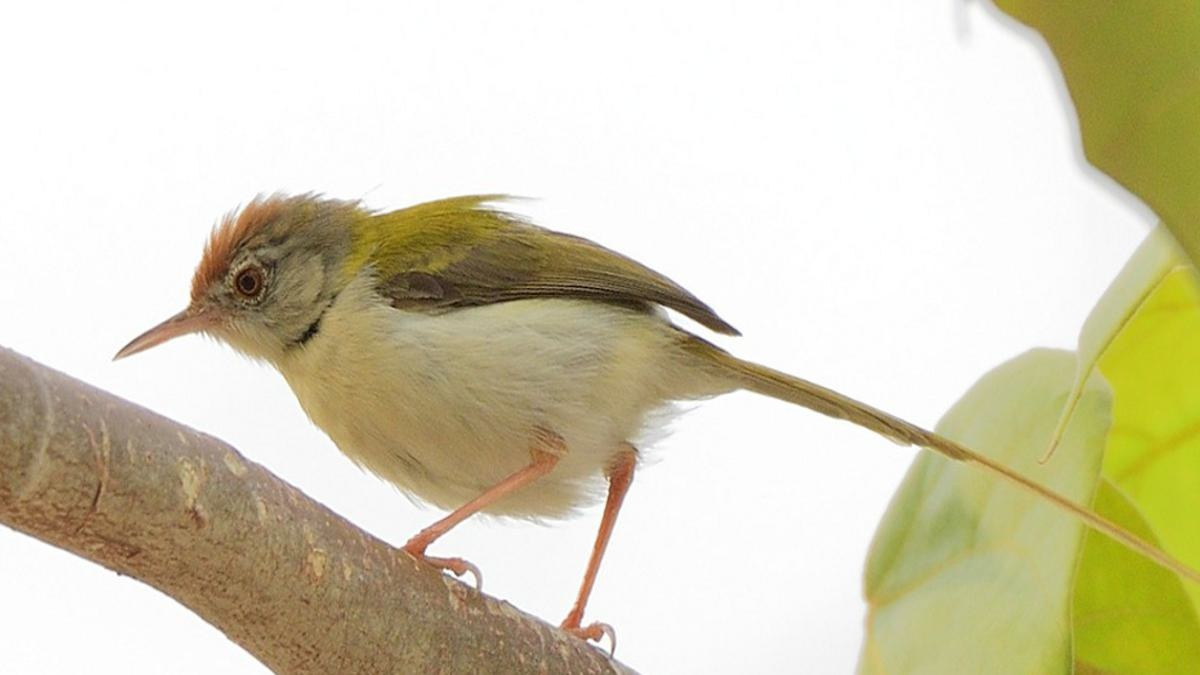tailorbird: (118, 151, 947, 621)
